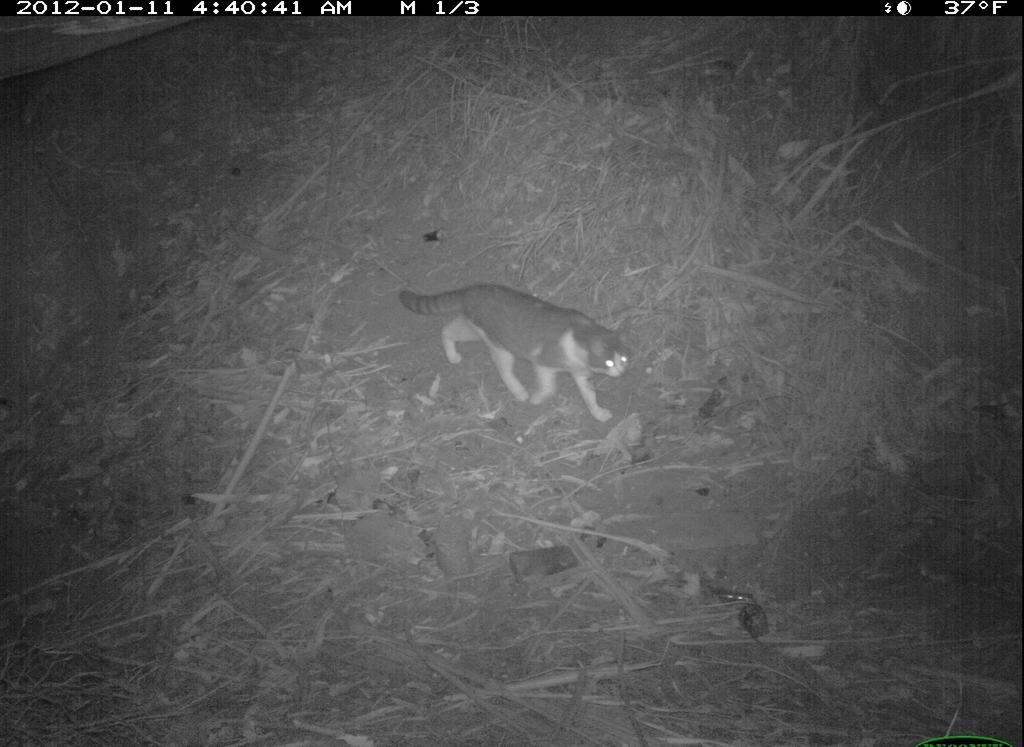cat: (396, 274, 647, 425)
